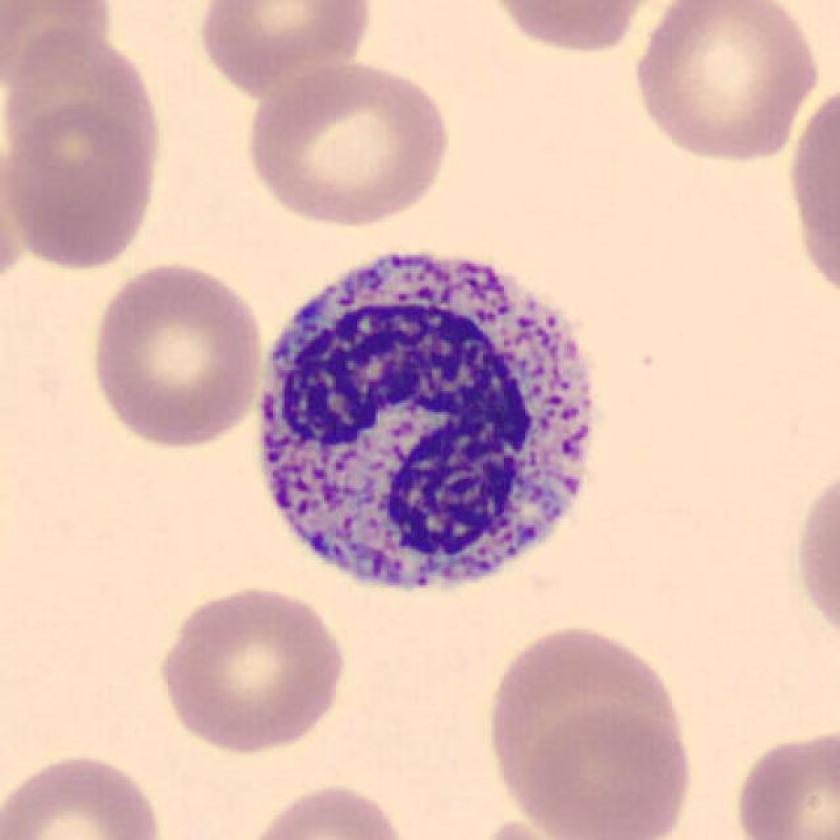neutrophil: (261, 257, 592, 590)
